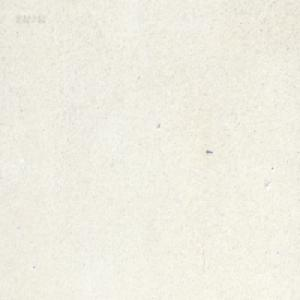Nail: (206, 148, 212, 154)
